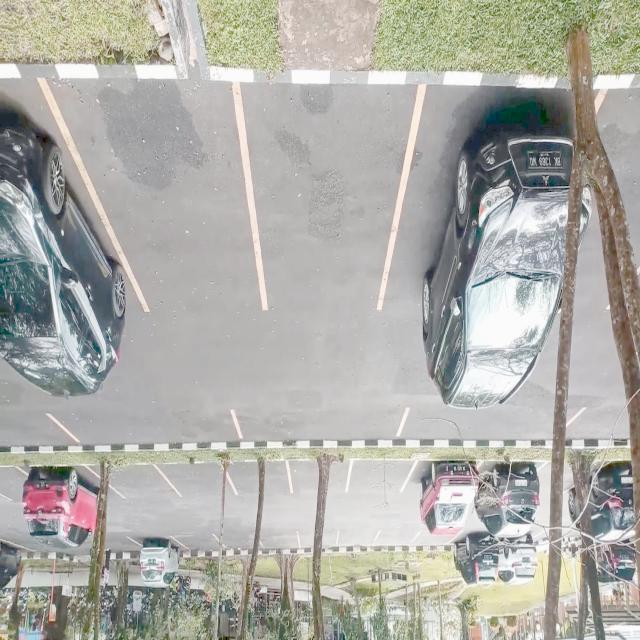empty: (258, 82, 406, 316), (114, 81, 248, 319), (62, 406, 240, 448), (236, 406, 406, 444), (0, 413, 65, 451), (345, 462, 410, 498), (168, 464, 232, 499), (291, 462, 351, 498), (229, 461, 290, 496), (110, 466, 166, 500), (180, 532, 220, 562), (338, 526, 378, 555), (219, 530, 258, 558), (376, 527, 418, 552), (298, 529, 338, 554), (261, 530, 300, 555), (416, 532, 451, 552)
occupied: (400, 85, 566, 334), (0, 94, 105, 348), (24, 467, 97, 540), (410, 461, 477, 523), (139, 535, 180, 577)
